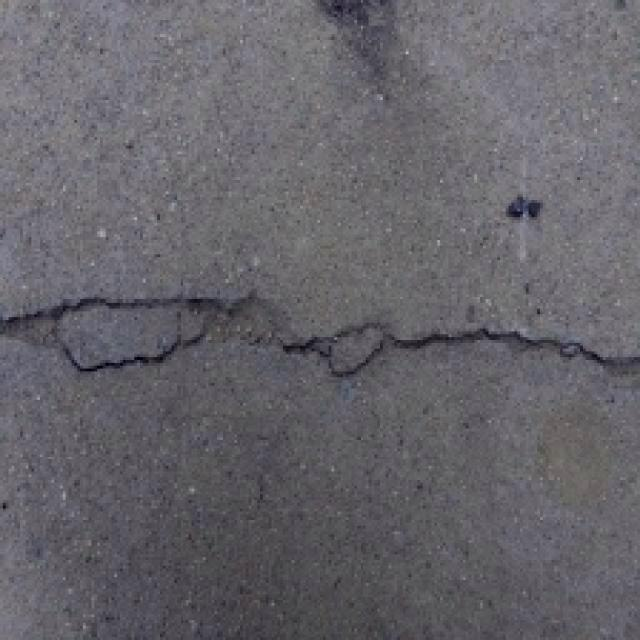SurfaceCrack: (10, 262, 640, 408)
